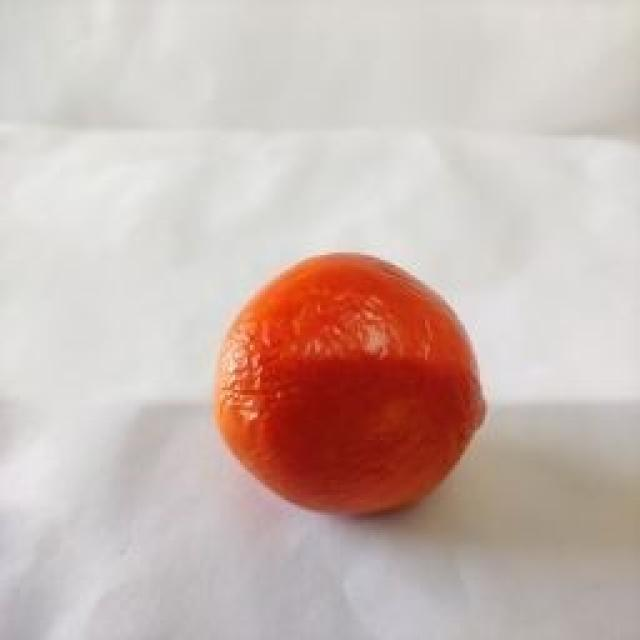overripe: (210, 248, 488, 518)
